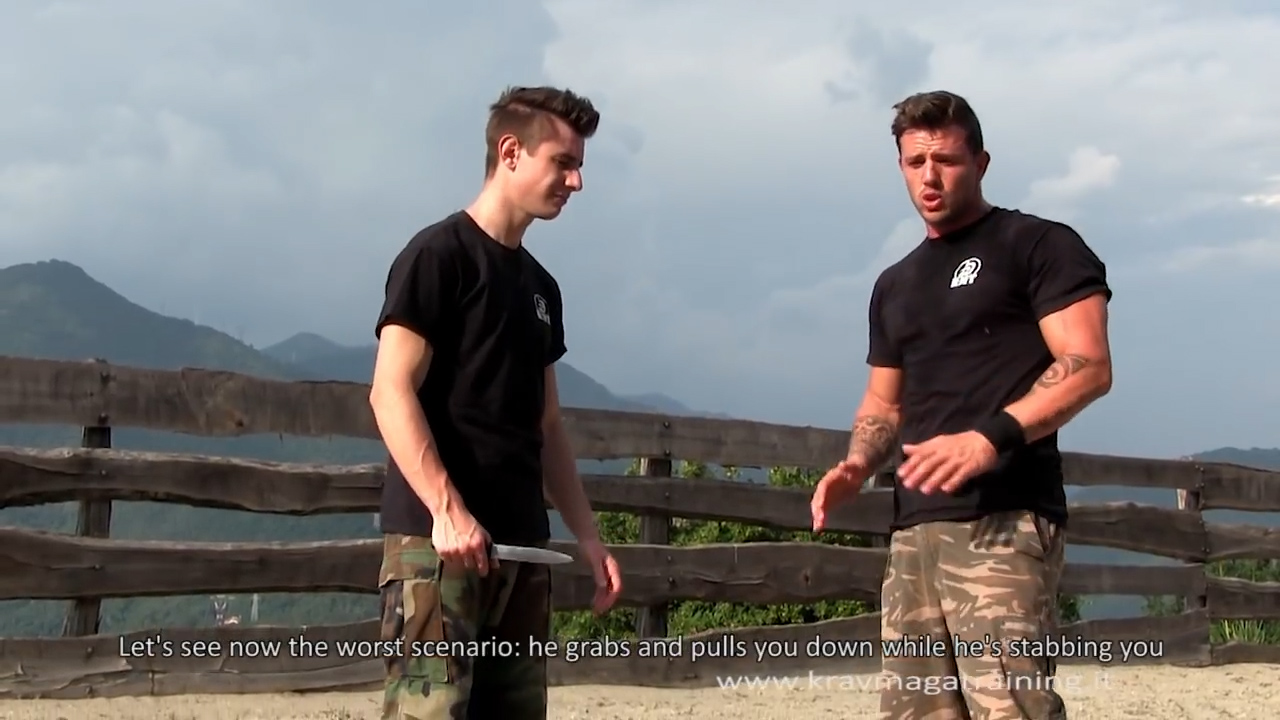knife: (423, 525, 578, 576)
